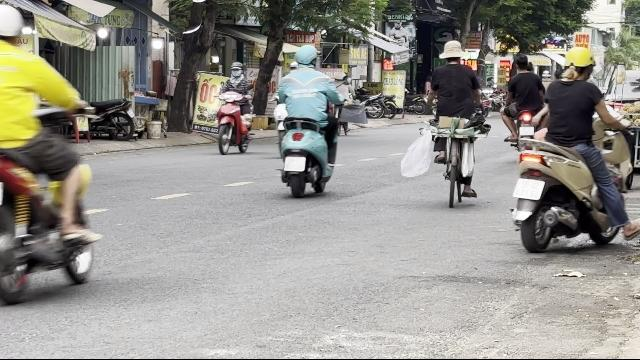helmet: (564, 46, 596, 78), (292, 44, 318, 68), (229, 62, 243, 78)
licenseplate: (513, 179, 543, 199), (285, 157, 305, 171), (519, 126, 533, 136)
motorcyclist: (508, 42, 634, 256), (271, 43, 345, 197), (213, 60, 255, 156)
nohelmet: (513, 53, 529, 71)
